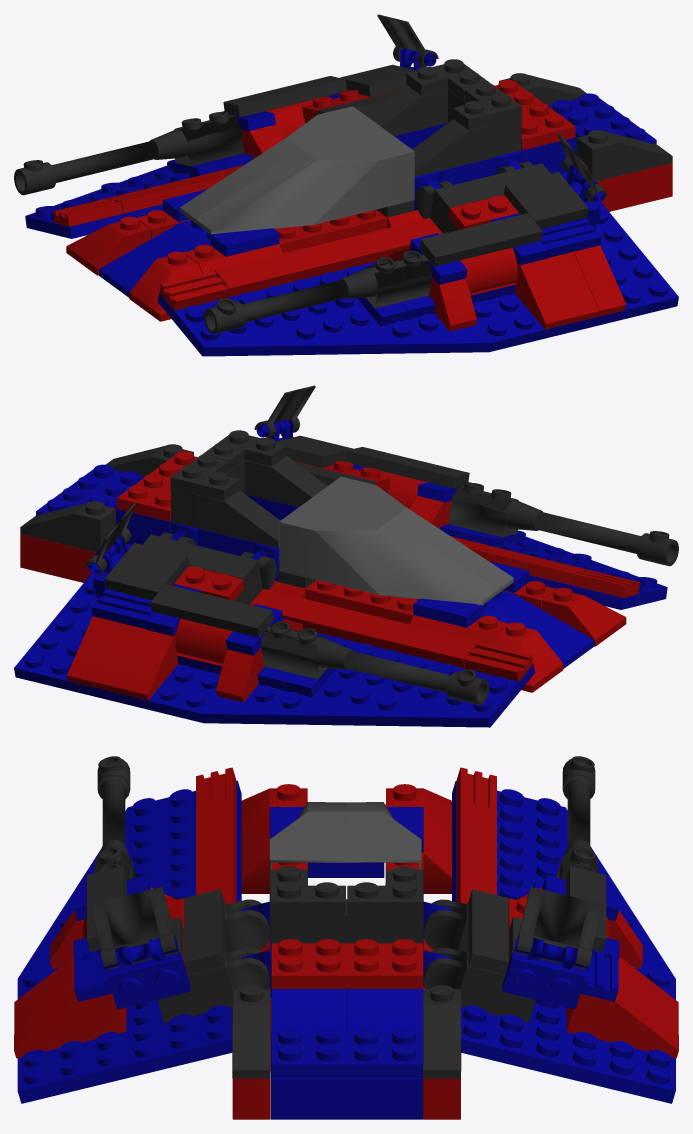
File: nave.glb
3 renders of one model, top to bottom at view 1: azimuth 30°, elevation 25°; view 2: azimuth 150°, elevation 25°; view 3: azimuth 270°, elevation 25°, orthographic. The views are drawn at different scales.
Visible parts, largest first — view 1: nave:polySurface1; view 2: nave:polySurface1; view 3: nave:polySurface1.
Part boxes in pixels (x1,y1,x2,y2): nave:polySurface1: (14,14,678,356); nave:polySurface1: (14,385,678,727); nave:polySurface1: (14,756,678,1119).
Bounding box in the file's own units: 6.16 × 1.69 × 5.65.
